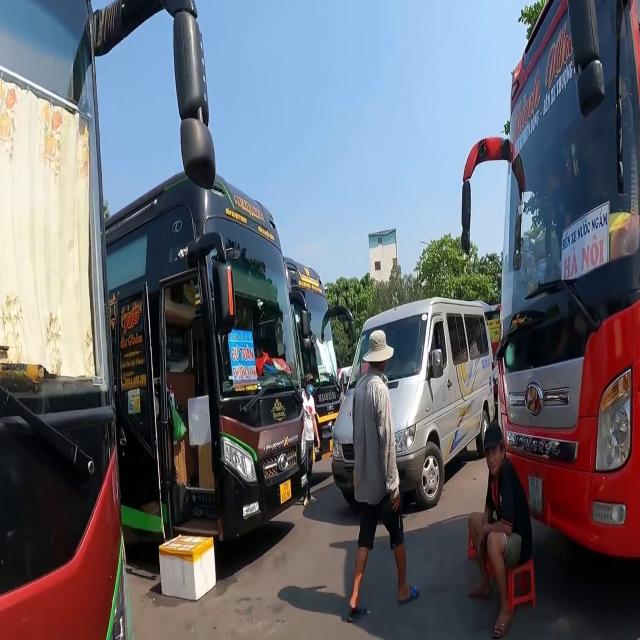bien_trang: (526, 470, 542, 515)
bien_vang: (278, 478, 293, 505)
